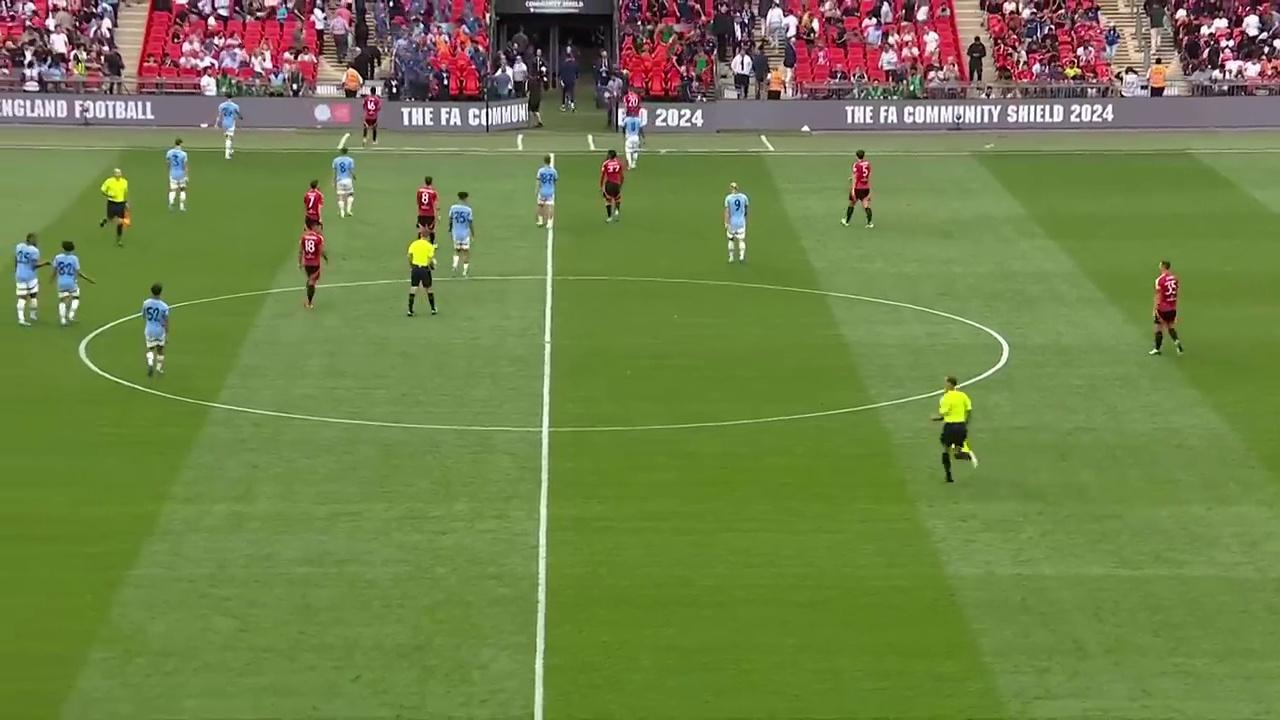player: (47, 239, 94, 326), (1149, 259, 1184, 356), (141, 283, 170, 379), (13, 232, 42, 326), (298, 223, 328, 309), (98, 167, 131, 244), (842, 150, 874, 227), (446, 191, 474, 277), (722, 181, 749, 263), (599, 150, 624, 222), (165, 138, 189, 212), (332, 149, 356, 218), (535, 153, 557, 228), (416, 176, 439, 245), (215, 97, 240, 160), (303, 180, 323, 236), (361, 90, 379, 146), (622, 125, 641, 168)
referee: (933, 375, 979, 480), (405, 229, 437, 317), (98, 168, 130, 245)
